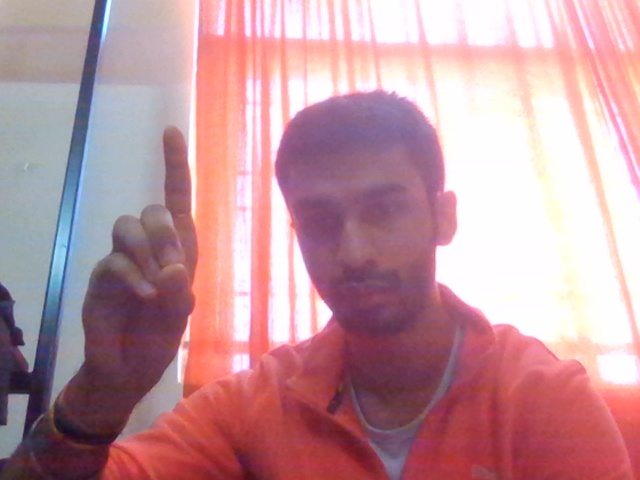D: (53, 112, 235, 433)
